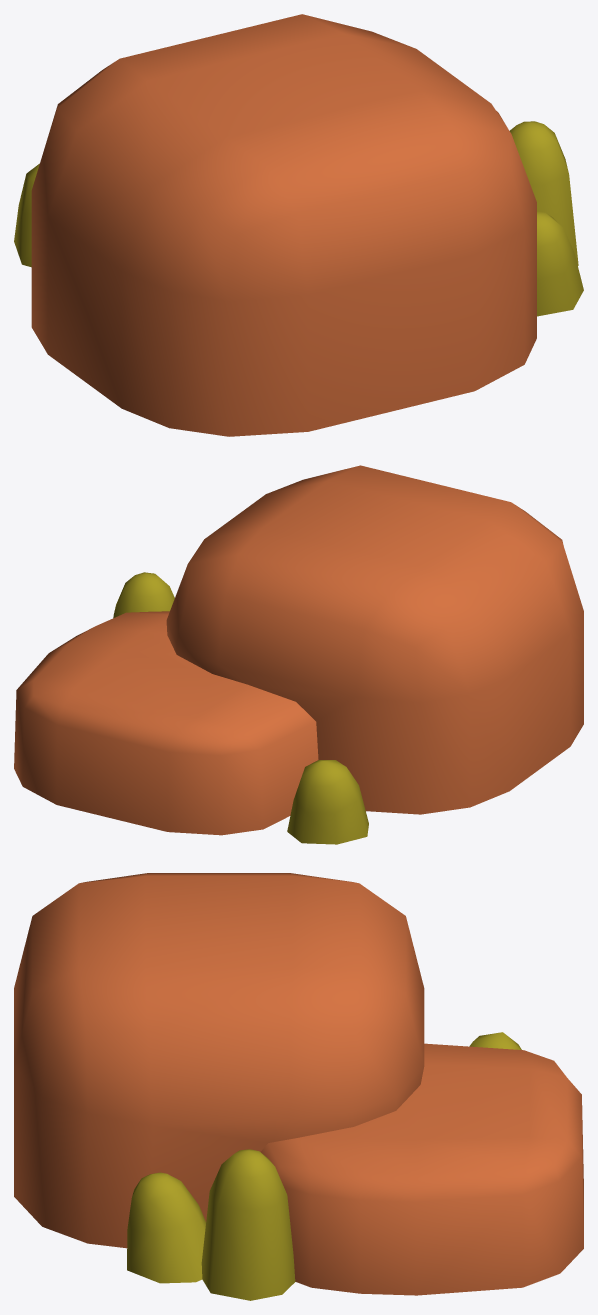
Rendered from rocks_3.glb.
The picture shows the model from 3 angles, top to bottom: view 1: azimuth 30°, elevation 25°; view 2: azimuth 150°, elevation 25°; view 3: azimuth 270°, elevation 25°; orthographic projection. The views are drawn at different scales.
Parts seen in each view (by area): view 1: rocks_3; view 2: rocks_3; view 3: rocks_3.
Boxes of the visible parts, box(x1,y1,x2,y2) form: rocks_3: box(14, 14, 583, 436); rocks_3: box(14, 465, 583, 844); rocks_3: box(14, 873, 583, 1300).
Bounding box in the file's own units: 1.45 × 0.6802 × 1.48.
Materials: 1 (1 with a texture image).
